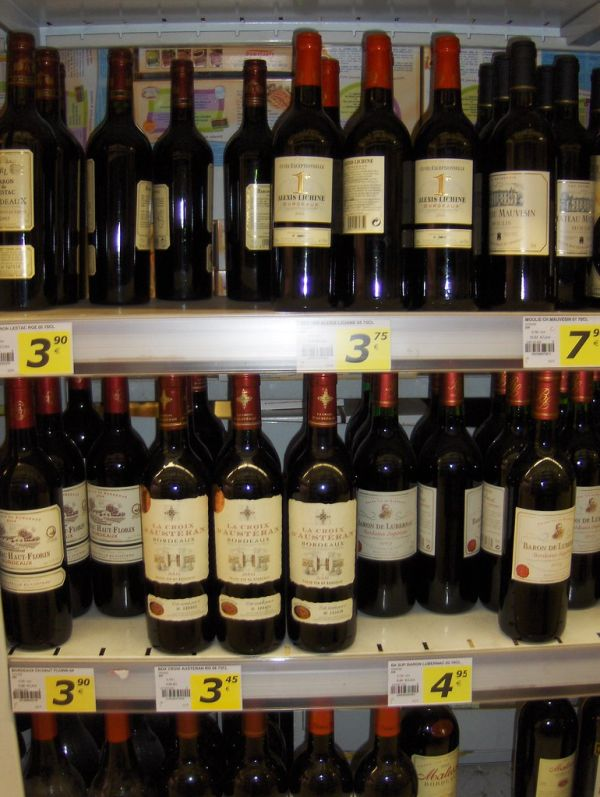unknown_bottle: (334, 31, 413, 310), (209, 372, 286, 655), (499, 370, 577, 645), (284, 372, 359, 654), (141, 372, 214, 656), (481, 38, 555, 309), (0, 378, 73, 652), (270, 31, 341, 311), (410, 34, 478, 309), (414, 371, 485, 616), (86, 51, 154, 306), (351, 372, 420, 619), (151, 57, 215, 303), (85, 375, 149, 619), (223, 58, 276, 303), (292, 707, 355, 797)
